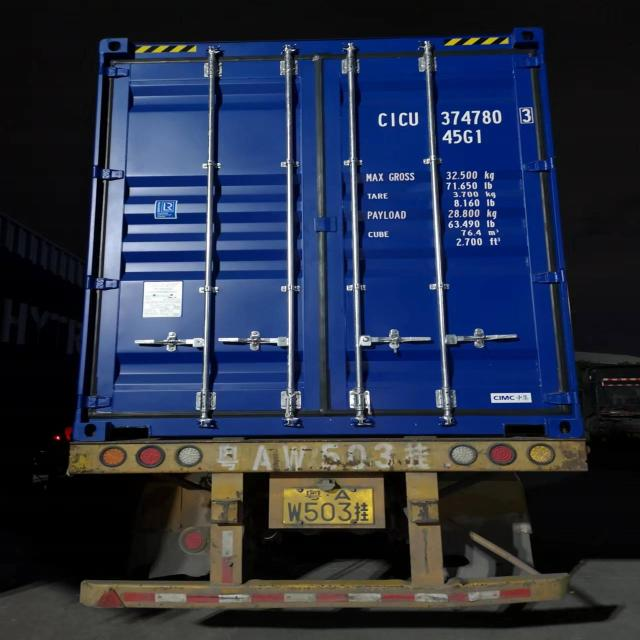seal: (386, 325, 404, 360)
